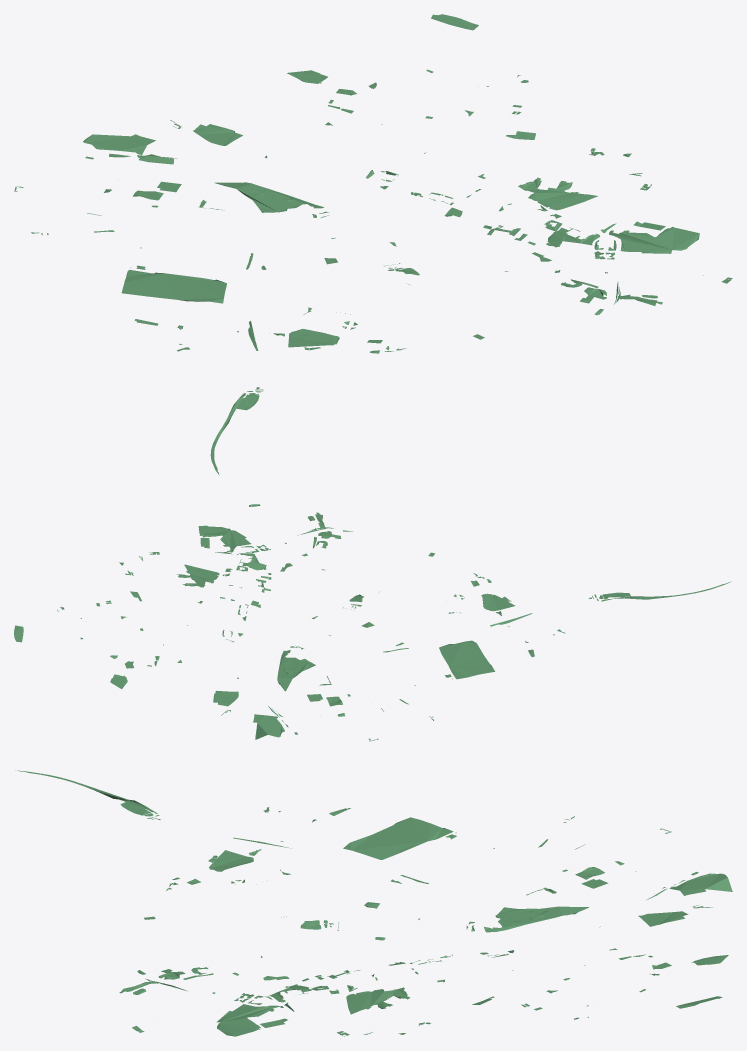
File: green.glb
The picture shows the model from 3 angles, top to bottom: view 1: azimuth 30°, elevation 25°; view 2: azimuth 150°, elevation 25°; view 3: azimuth 270°, elevation 25°; orthographic projection. The views are drawn at different scales.
Visible parts, largest first — view 1: green; view 2: green; view 3: green.
Part boxes in pixels (bbox=[...]): green: bbox=[14, 14, 732, 475]; green: bbox=[14, 504, 731, 741]; green: bbox=[15, 770, 732, 1036].
Bounding box in the file's own units: 2415 × 183 × 2556.
